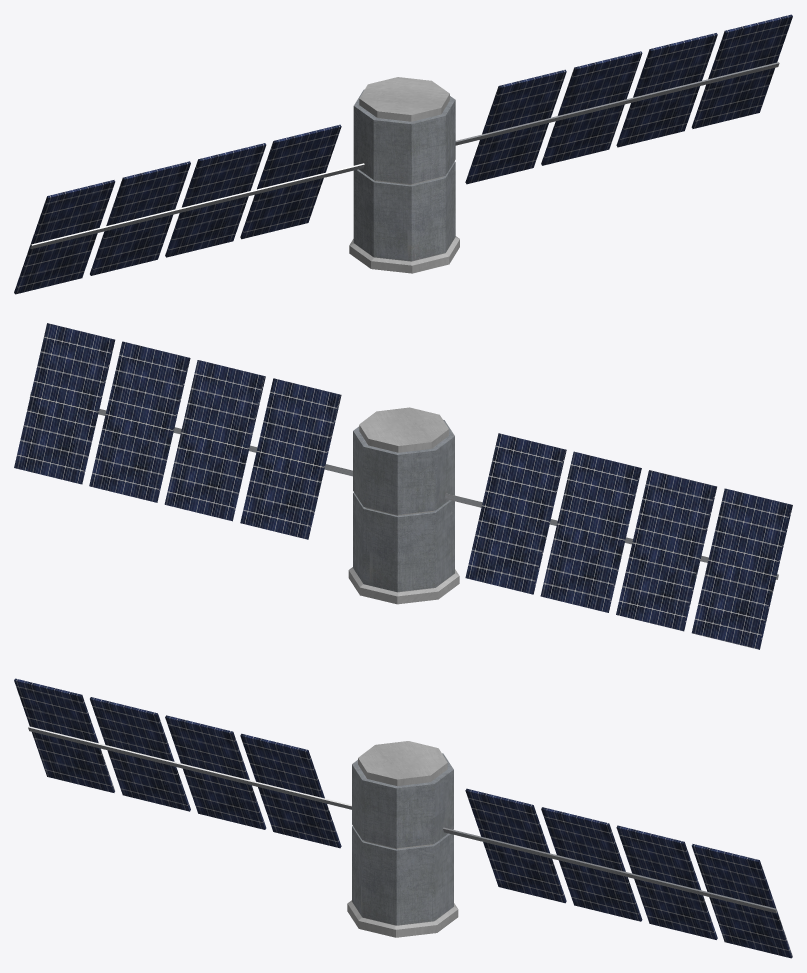
File: Satellite.fbx
The picture shows the model from 3 angles, top to bottom: view 1: azimuth 30°, elevation 25°; view 2: azimuth 150°, elevation 25°; view 3: azimuth 330°, elevation 25°; orthographic projection.
Parts seen in each view (by area): view 1: pCube18; view 2: pCube18; view 3: pCube18.
Part boxes in pixels (left/top/right/bottom): pCube18: left=14, top=14, right=792, bottom=294; pCube18: left=14, top=323, right=792, bottom=649; pCube18: left=14, top=678, right=792, bottom=958.
Bounding box in the file's own units: 88.67 × 17.69 × 10.66.
5 materials, 4 textured.
